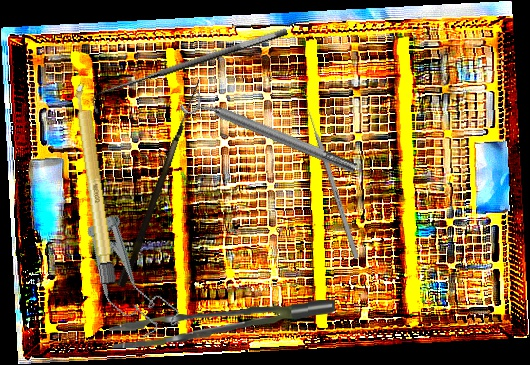Fixation Ring: (178, 84, 361, 183)
Hook Surgical: (87, 24, 294, 115), (116, 75, 201, 290)
Pusher: (303, 100, 360, 260)
Scalpel Handle: (72, 81, 117, 285)
Speculum: (56, 176, 184, 349)
Tissue Forceps: (108, 300, 336, 348)
